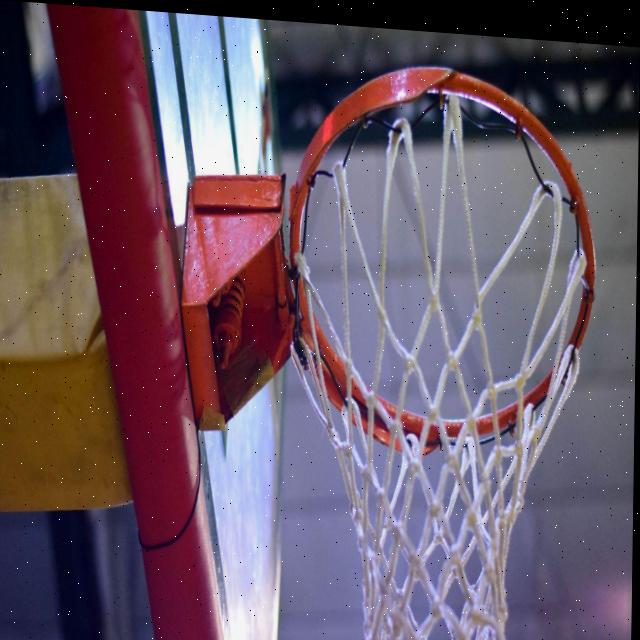hoop: (284, 57, 599, 640)
